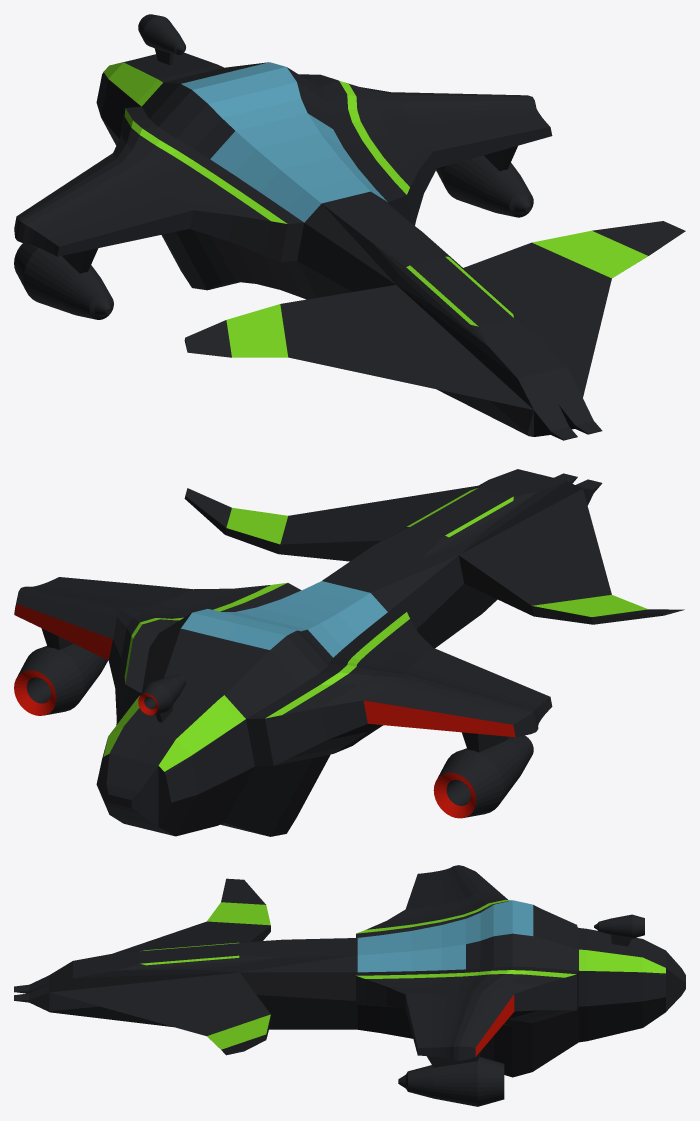
The model's file is ship_3.fbx.
3 renders of one model, top to bottom at view 1: azimuth 30°, elevation 25°; view 2: azimuth 150°, elevation 25°; view 3: azimuth 270°, elevation 25°, orthographic. The views are drawn at different scales.
Parts seen in each view (by area): view 1: ship_3; view 2: ship_3; view 3: ship_3.
Part boxes in pixels (x1,y1,x2,y2): ship_3: (14,14,685,440); ship_3: (14,469,684,836); ship_3: (14,865,685,1106).
Bounding box in the file's own units: 1059 × 390 × 1635.
